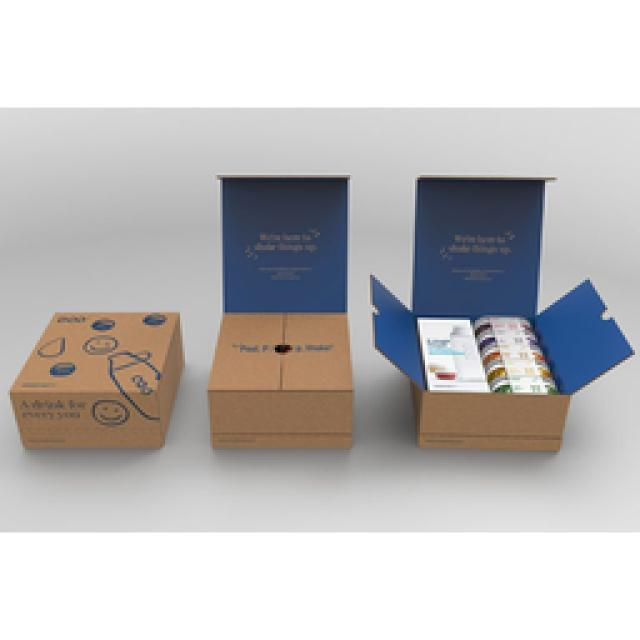cardboard: (372, 176, 638, 450), (209, 175, 355, 445), (13, 311, 188, 447), (416, 315, 565, 395)
